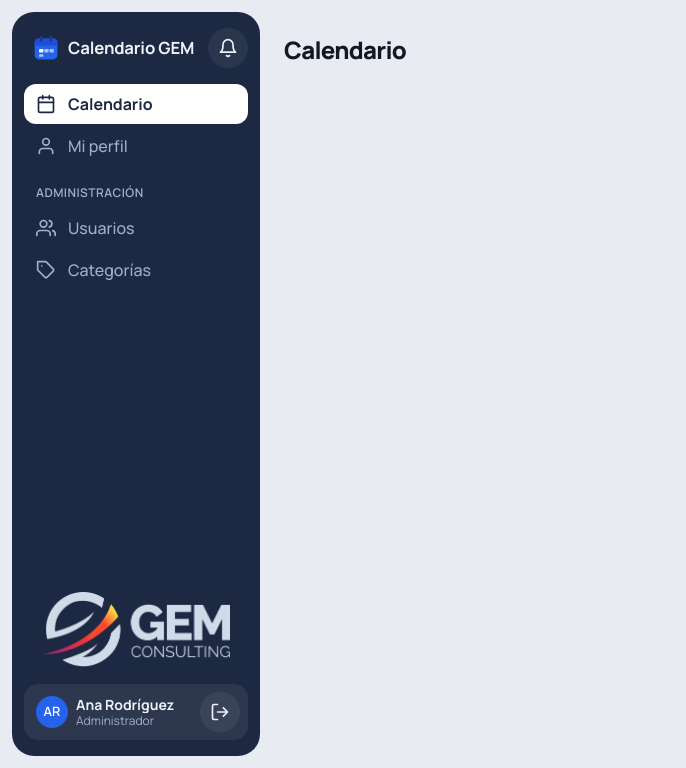
Test: NotificationsProvider y campana › sin notificaciones lo indica
The width and height of the screenshot is (686, 768).
Click the button named "Notificaciones" at coordinates (228, 48), box 208,28 -> 248,68
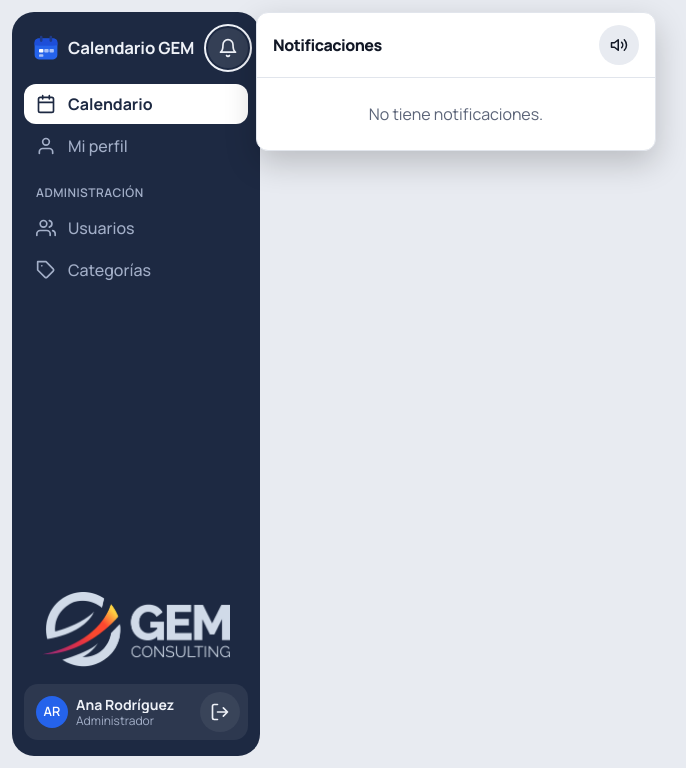
Check: the text "No tiene notificaciones." is shown, box 369,103 -> 543,125
